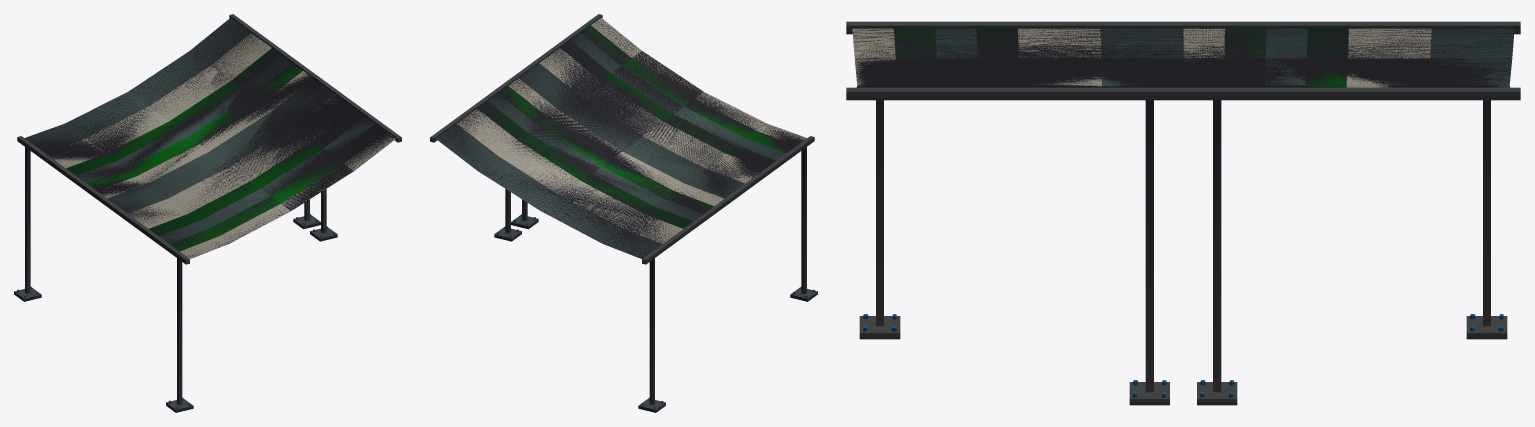
Rendered from Canopy_1B.fbx.
3 views of the same model, side by side, from view 1: azimuth 30°, elevation 25°; view 2: azimuth 150°, elevation 25°; view 3: azimuth 270°, elevation 25° (orthographic). The views are drawn at different scales.
Visible parts, largest first — view 1: Canopy_1B; view 2: Canopy_1B; view 3: Canopy_1B.
Part boxes in pixels (x1,y1,x2,y2): Canopy_1B: [14, 14, 401, 412]; Canopy_1B: [430, 14, 817, 412]; Canopy_1B: [846, 21, 1520, 405].
Size of the model in its own units: 15.7 by 14.64 by 20.
